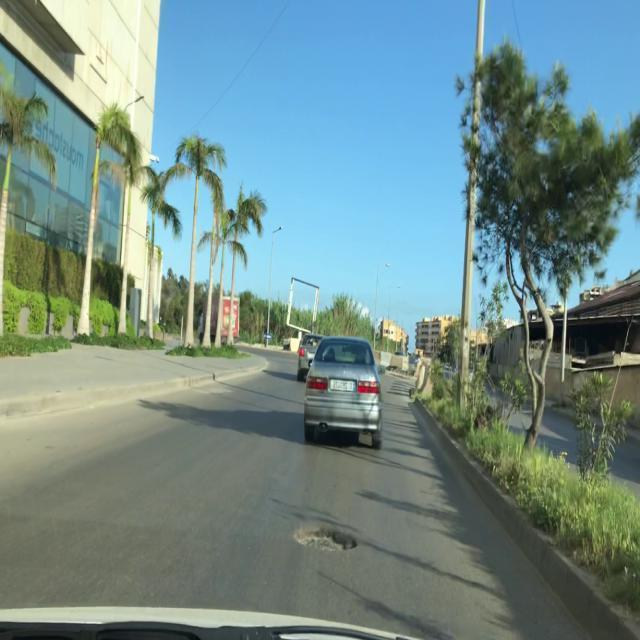pothole: (289, 519, 364, 563)
